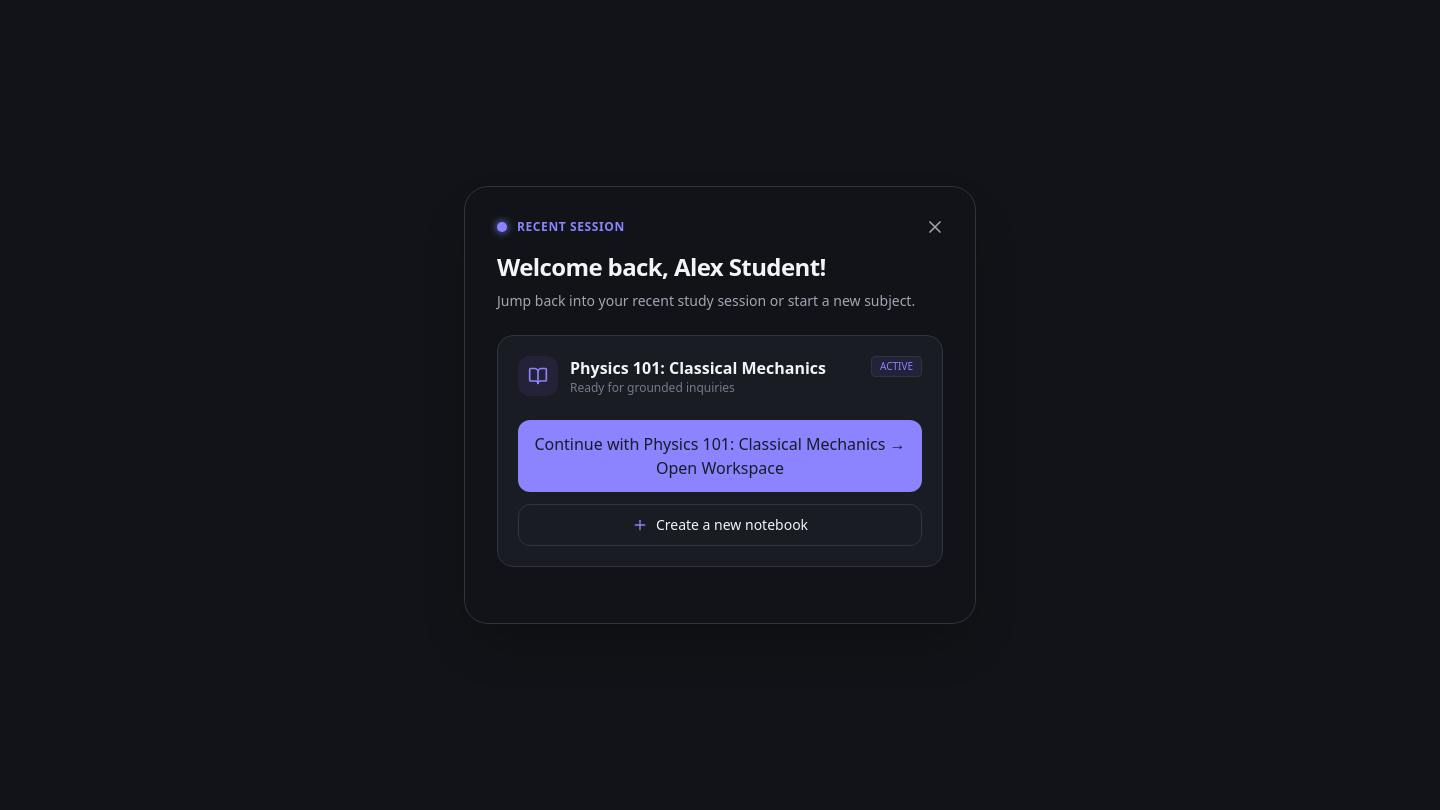
Test: Phase 3: Material 3 Auth Modal & Guided Onboarding Flow › test_onboarding_flow_path_a_existing_notebooks
This screenshot has width=1440, height=810.
Earlier steps of the test are not shown.
Click the button with test id "onboarding-create-new-btn" at point(720, 525), box [518,504,922,546]
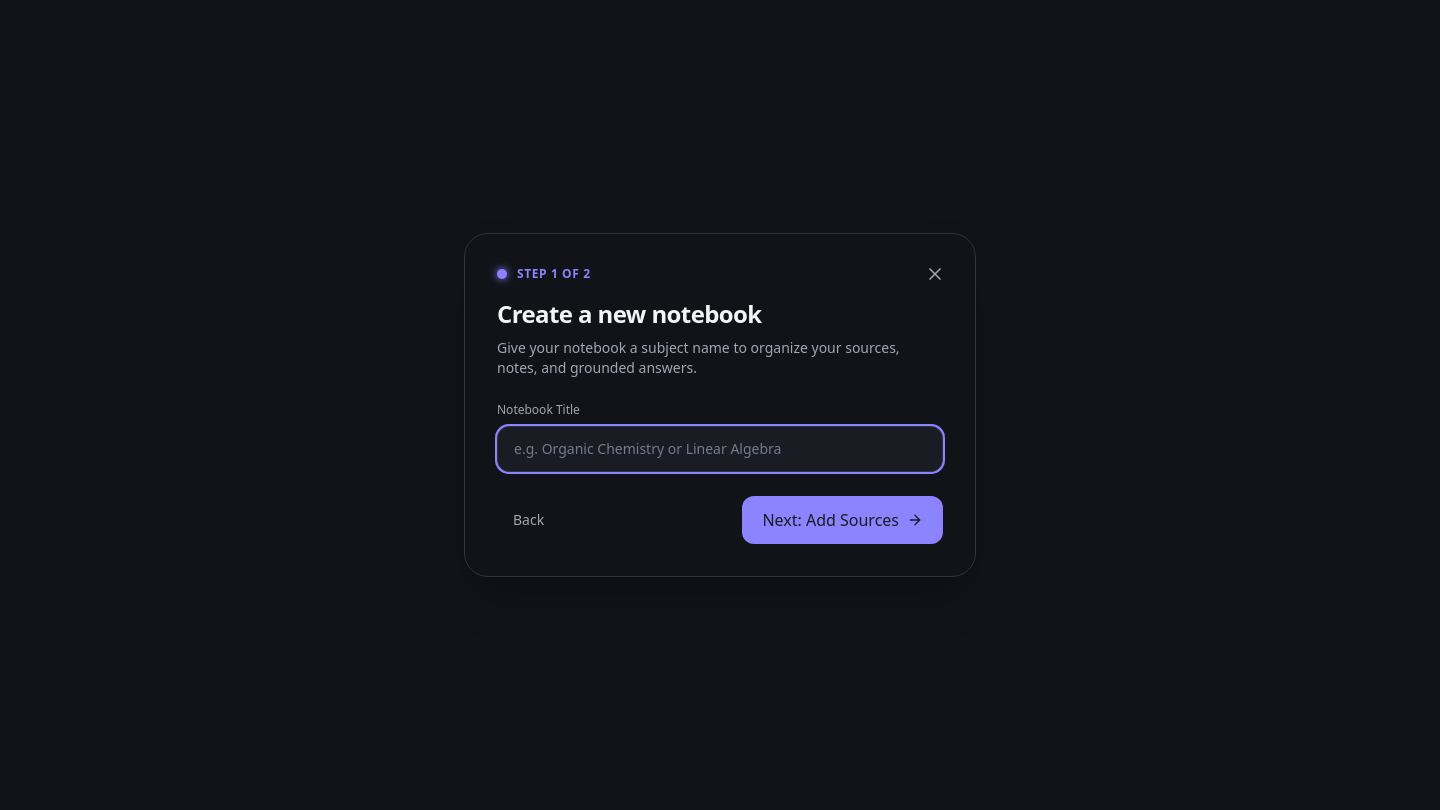
Expected: the field with test id "onboarding-notebook-title-input" is shown, [497,426,943,472]
